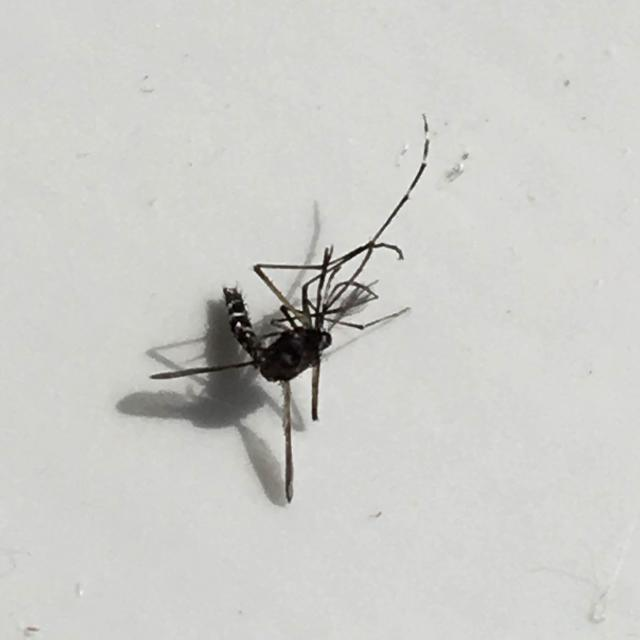albopictus: (140, 118, 457, 495)
